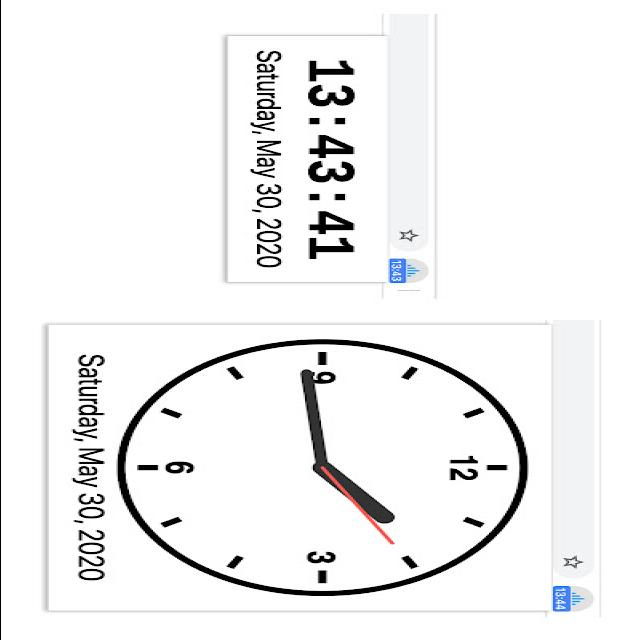clock: (58, 305, 580, 597)
